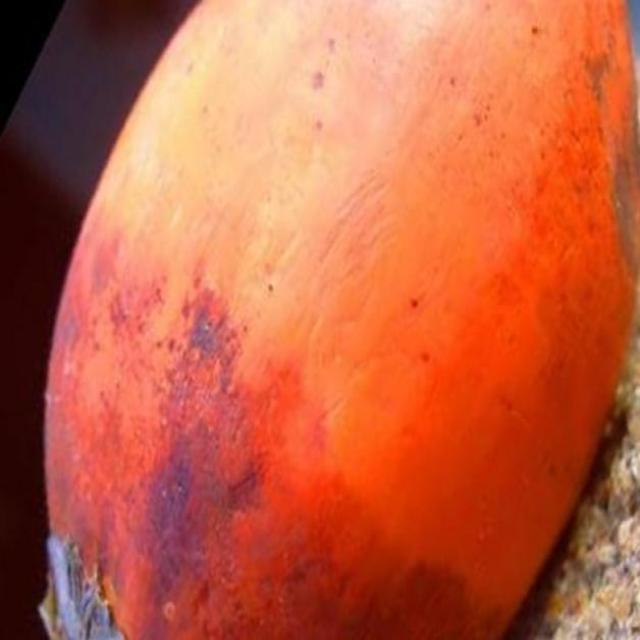good: (36, 0, 639, 639)
